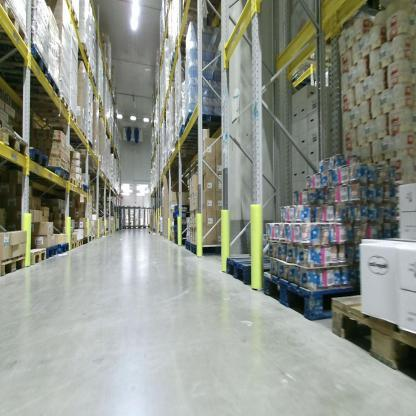pallets: (330, 296, 415, 378), (1, 126, 87, 191), (261, 272, 331, 322), (1, 240, 70, 279), (219, 250, 277, 284), (182, 238, 220, 257), (70, 235, 94, 251)
